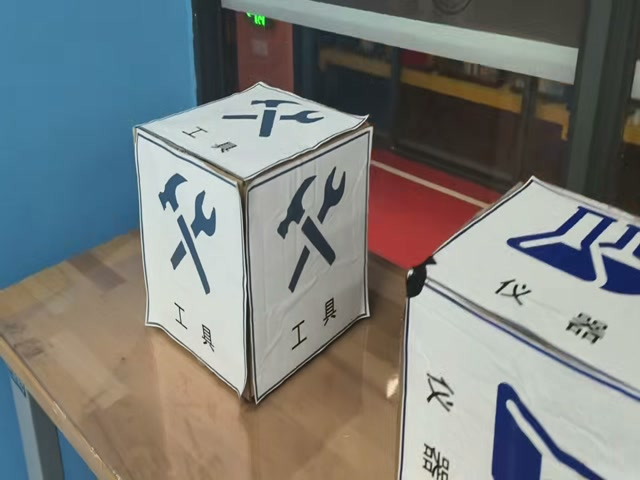Cube_ins: (410, 167, 640, 422)
Cube_tool: (136, 84, 374, 188)
